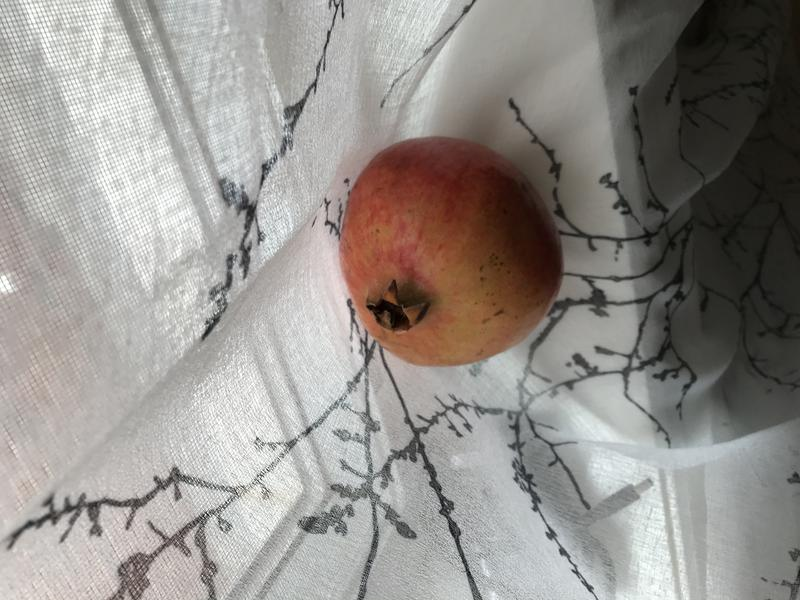pomegranate: (328, 135, 572, 374)
